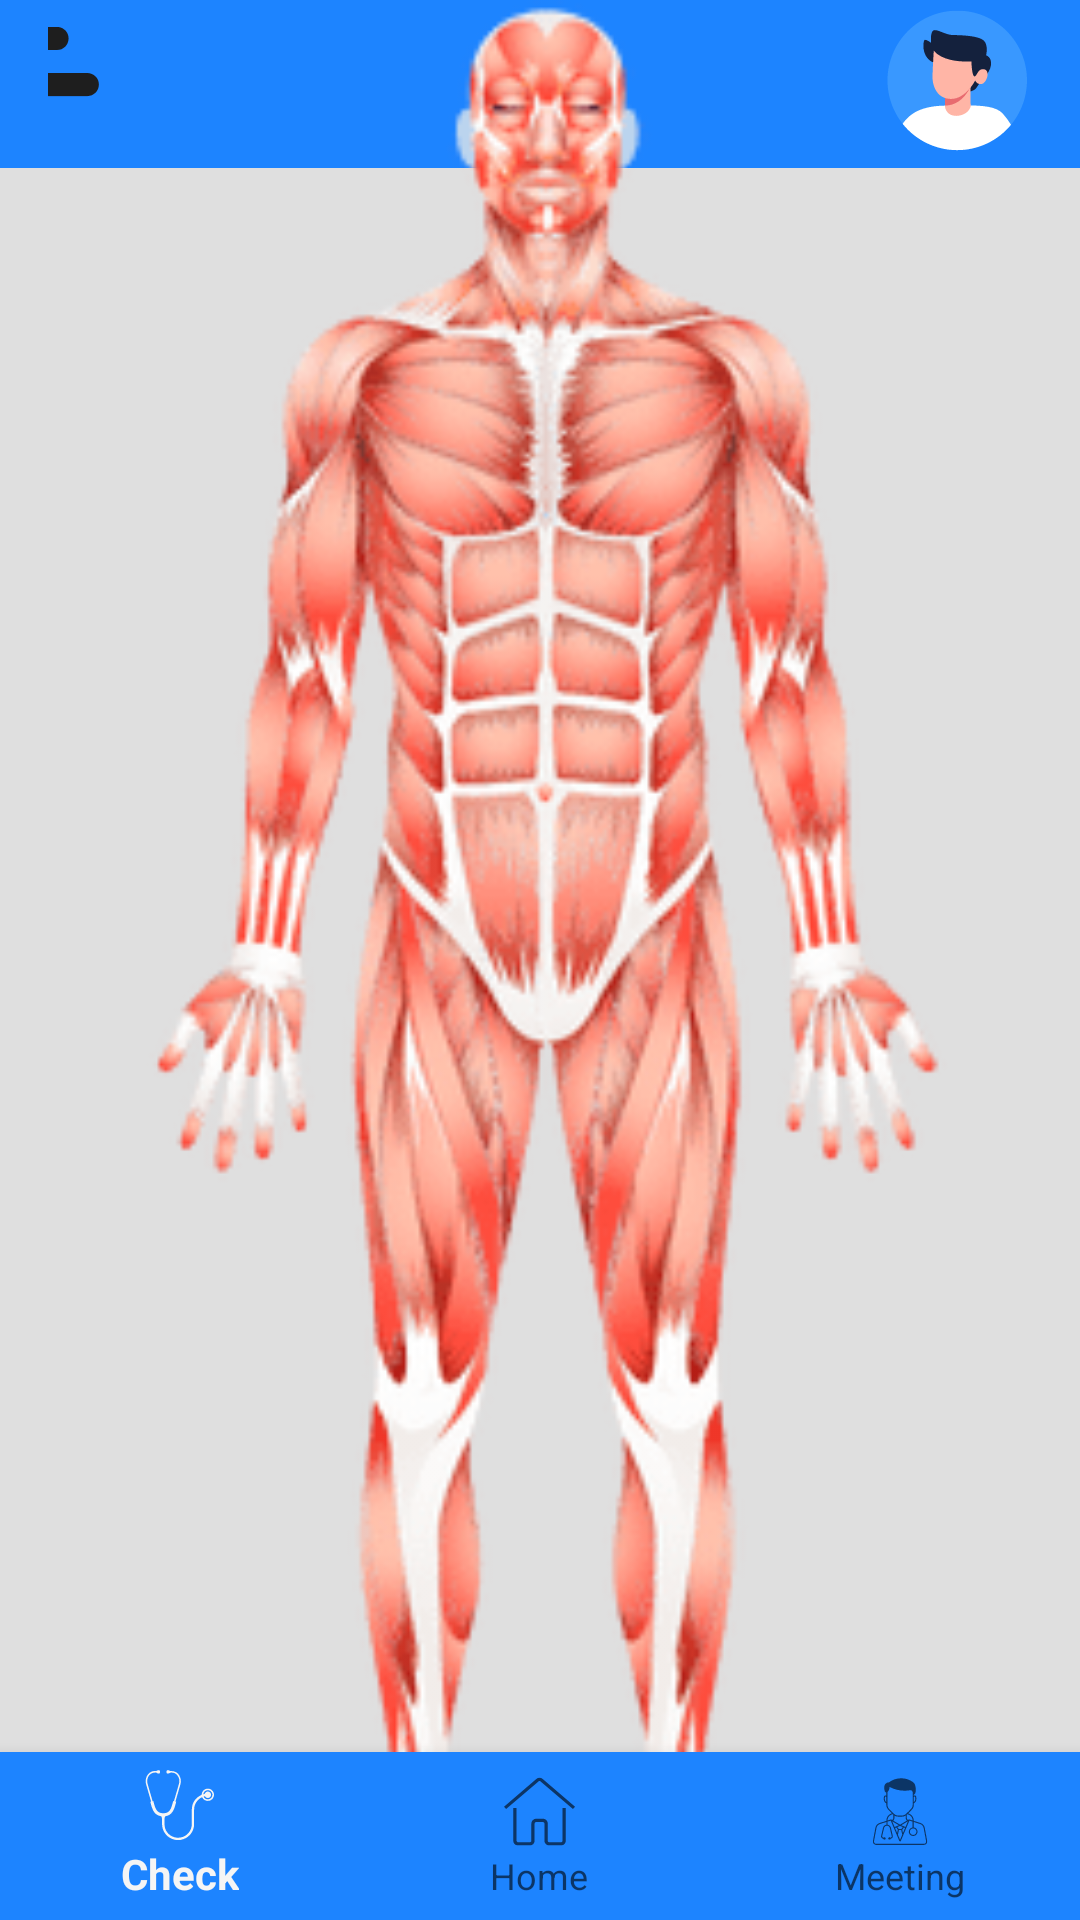

Where icons sit on this 1080x1920 app screen, as (x1, y1, x2, y2):
profile: (888, 11, 1027, 151)
